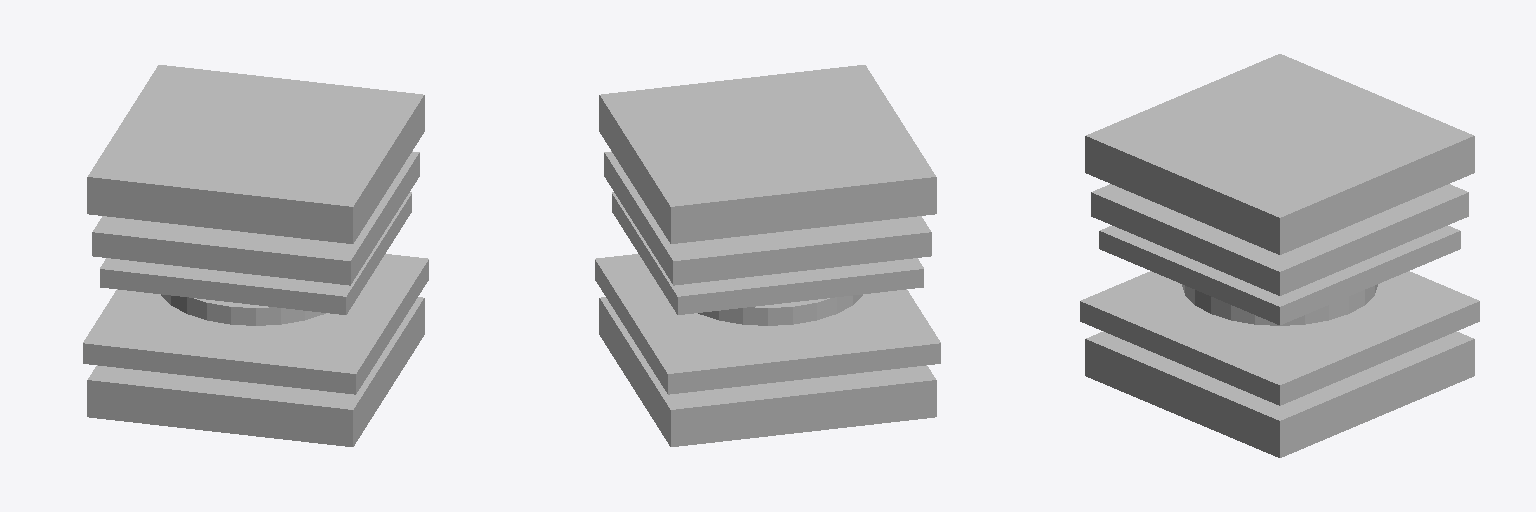
Rendered from gem_type_6.obj.
3 views of the same model, side by side, from view 1: azimuth 30°, elevation 25°; view 2: azimuth 150°, elevation 25°; view 3: azimuth 270°, elevation 25° (orthographic).
Visible parts, largest first — view 1: gem_type_6; view 2: gem_type_6; view 3: gem_type_6.
Part boxes in pixels (bbox=[...]): gem_type_6: bbox=[83, 65, 428, 446]; gem_type_6: bbox=[595, 65, 940, 446]; gem_type_6: bbox=[1080, 54, 1479, 457].
Size of the model in its own units: 1.02 by 0.675 by 1.02.